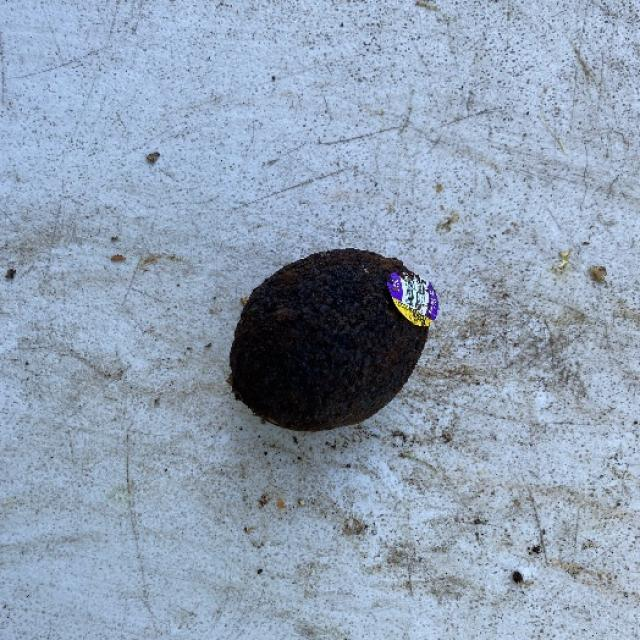organik: (225, 250, 443, 432)
